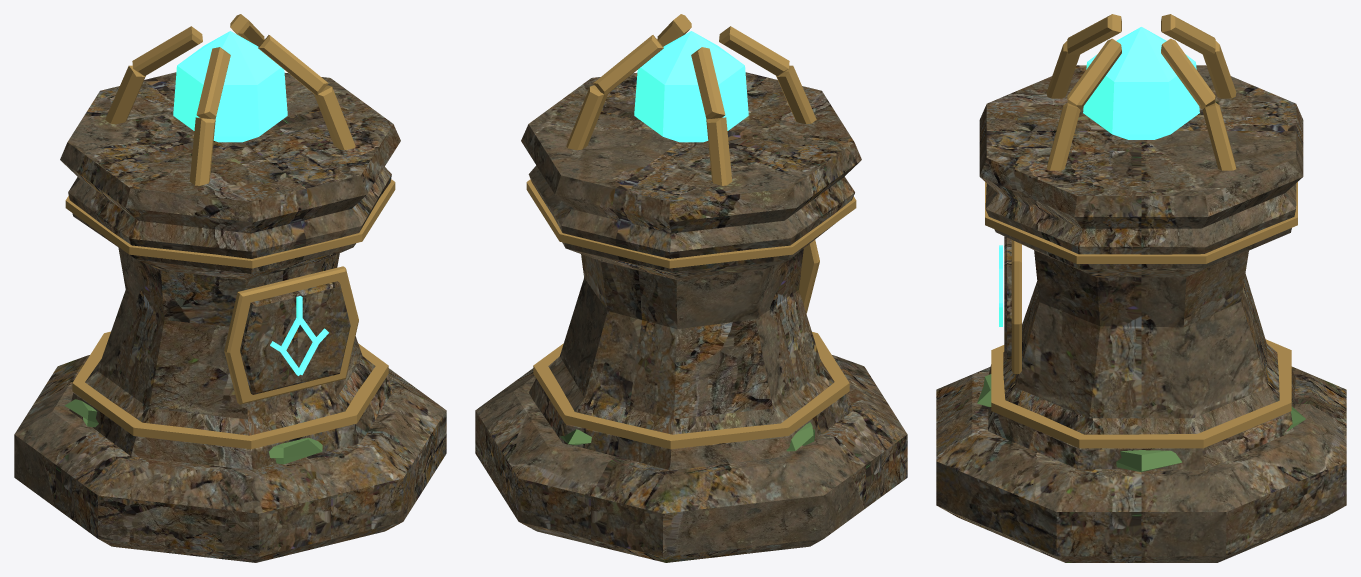
The model's file is beacon.glb.
3 views of the same model, side by side, from view 1: azimuth 30°, elevation 25°; view 2: azimuth 150°, elevation 25°; view 3: azimuth 270°, elevation 25° (orthographic).
Parts seen in each view (by area): view 1: carved_lantern_plinth, lantern_bronze_inlay, glow, moss_patina; view 2: carved_lantern_plinth, lantern_bronze_inlay, glow, moss_patina; view 3: carved_lantern_plinth, lantern_bronze_inlay, glow, moss_patina.
Part boxes in pixels (bbox=[...]): carved_lantern_plinth: bbox=[14, 72, 446, 562]; lantern_bronze_inlay: bbox=[65, 14, 395, 449]; glow: bbox=[173, 31, 328, 375]; moss_patina: bbox=[64, 399, 322, 464]; carved_lantern_plinth: bbox=[475, 72, 907, 562]; lantern_bronze_inlay: bbox=[526, 14, 856, 449]; glow: bbox=[634, 31, 748, 142]; moss_patina: bbox=[560, 422, 814, 451]; carved_lantern_plinth: bbox=[936, 65, 1346, 562]; lantern_bronze_inlay: bbox=[985, 14, 1297, 448]; glow: bbox=[999, 27, 1199, 326]; moss_patina: bbox=[977, 374, 1305, 472].
Size of the model in its own units: 1.05 by 1.3 by 1.05.
4 materials, 1 textured.
